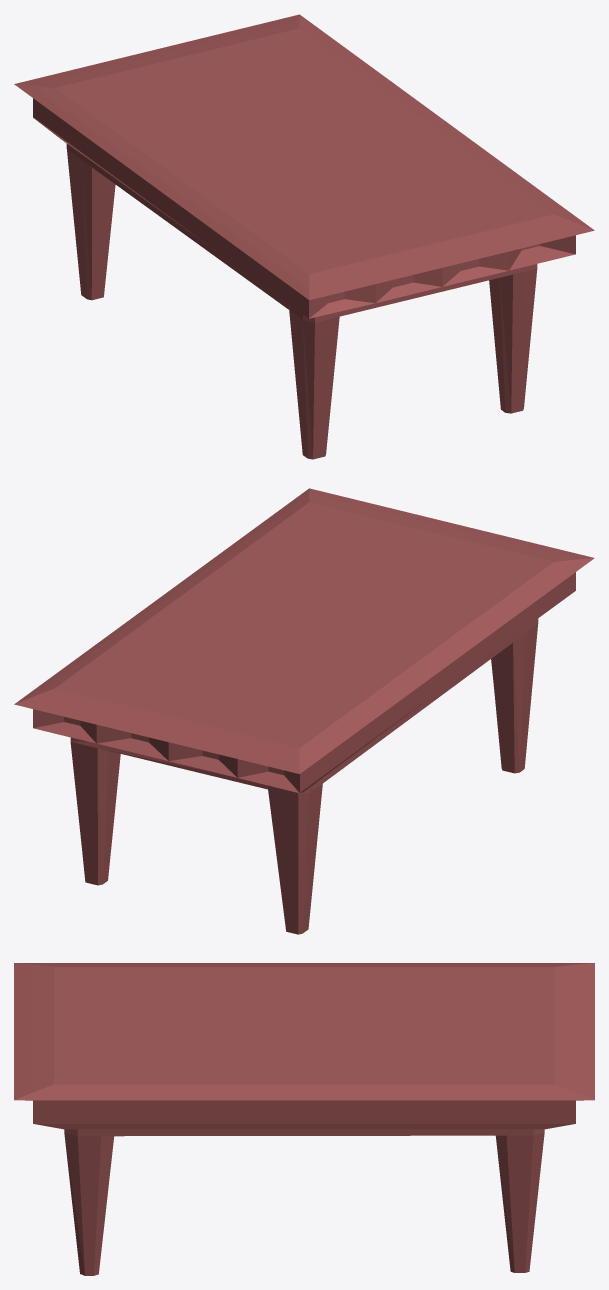
The model's file is coffee_table_0.glb.
The picture shows the model from 3 angles, top to bottom: view 1: azimuth 30°, elevation 25°; view 2: azimuth 150°, elevation 25°; view 3: azimuth 270°, elevation 25°; orthographic projection.
Visible parts, largest first — view 1: Cube__0; view 2: Cube__0; view 3: Cube__0.
Part boxes in pixels (box(x1,y1,x2,y2)): Cube__0: box(14, 14, 594, 459); Cube__0: box(14, 488, 594, 934); Cube__0: box(14, 963, 594, 1275).
Bounding box in the file's own units: 0.1513 × 0.1021 × 0.2708.
